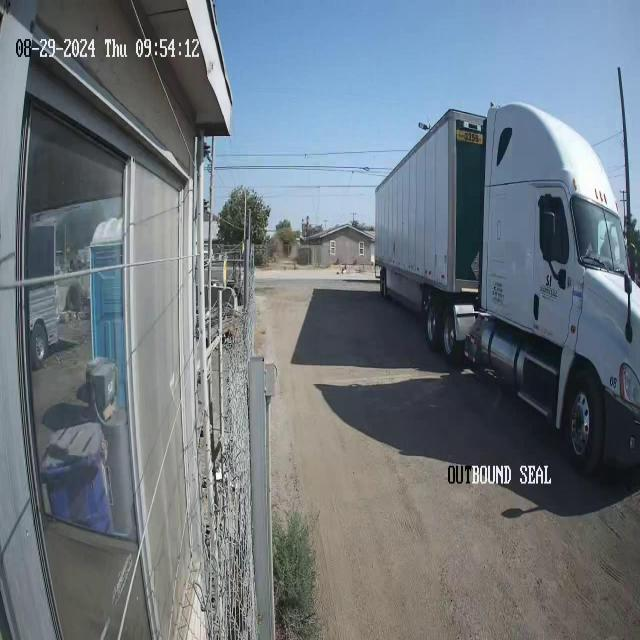TRUCK_IN: (373, 100, 639, 476)
